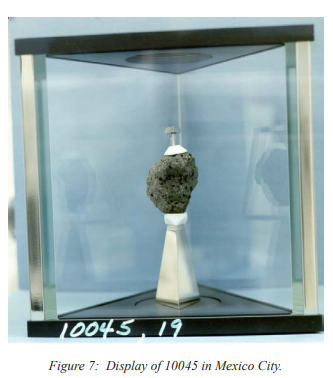Basalt: (141, 153, 220, 208)
